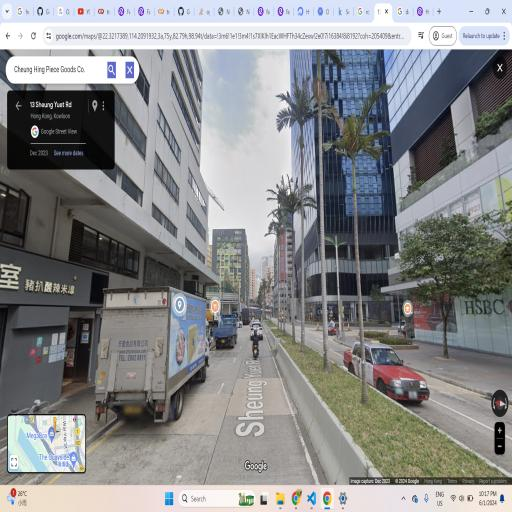Roads: (46, 302, 509, 476)
Trees: (313, 87, 389, 409), (398, 190, 506, 368), (252, 158, 324, 368), (274, 64, 317, 368)
